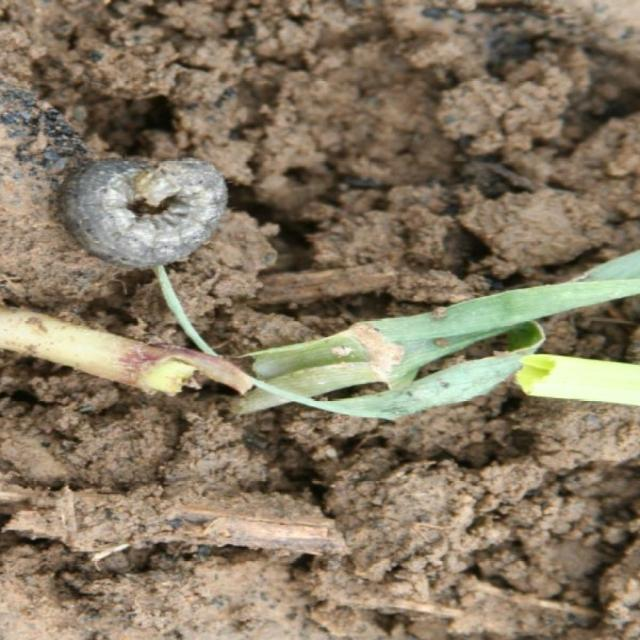black cutworm: (58, 143, 234, 279)
